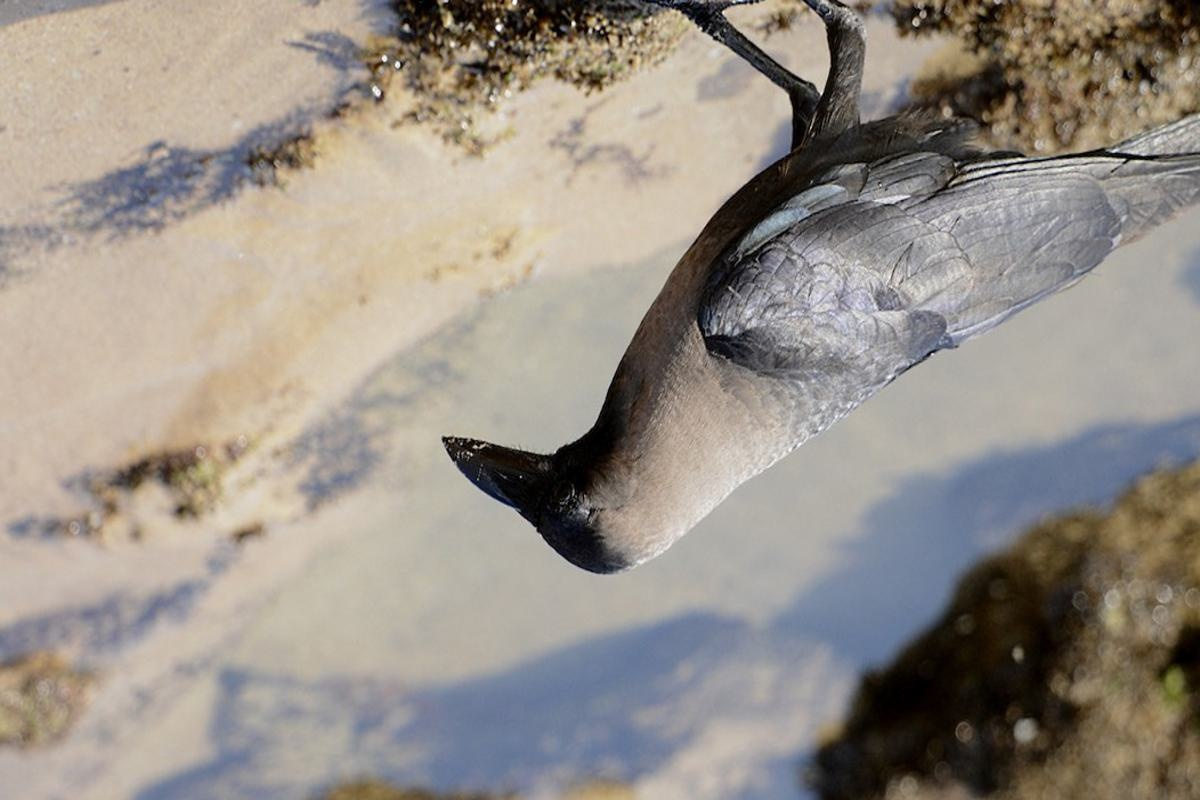crow: (436, 1, 1200, 579)
